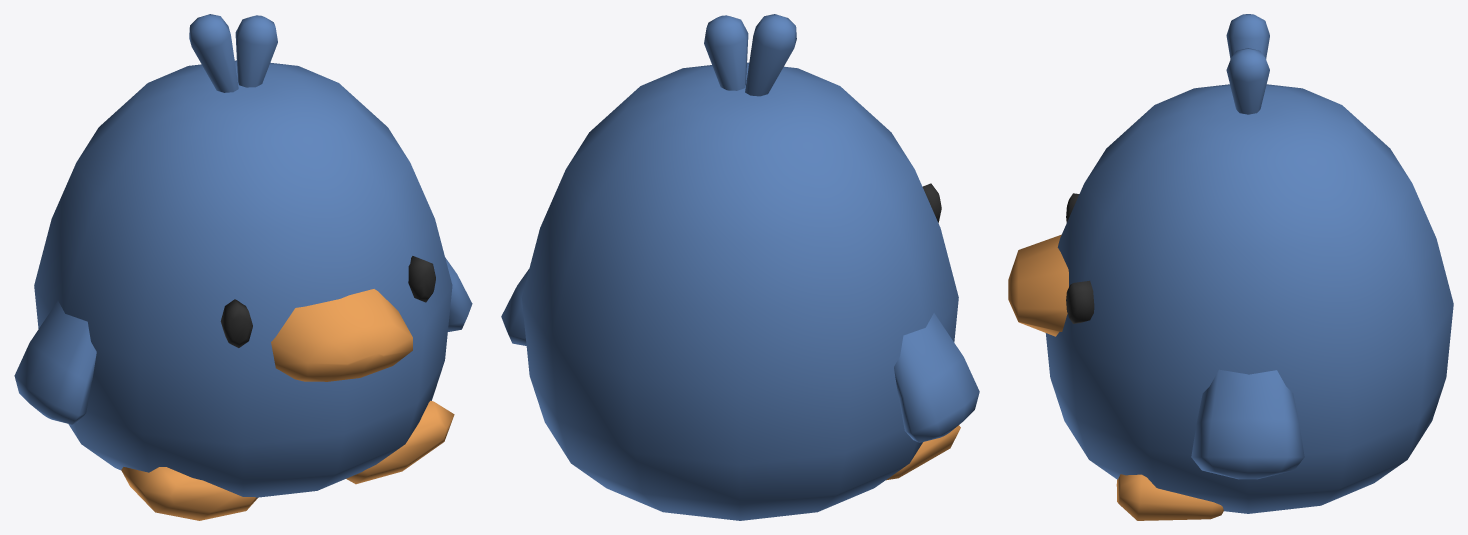
File: Bird_01.fbx
3 renders of one model, left to right at view 1: azimuth 30°, elevation 25°; view 2: azimuth 150°, elevation 25°; view 3: azimuth 270°, elevation 25°, orthographic. The views are drawn at different scales.
Parts seen in each view (by area): view 1: Bird_01; view 2: Bird_01; view 3: Bird_01.
Part boxes in pixels (box(x1,y1,x2,y2)): Bird_01: box(14, 14, 472, 520); Bird_01: box(501, 14, 979, 520); Bird_01: box(1008, 14, 1453, 520).
Size of the model in its own units: 0.2692 by 0.2675 by 0.2459.
